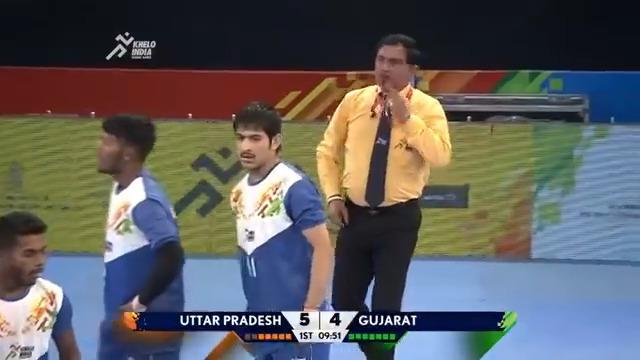Player: (217, 107, 316, 345), (81, 112, 187, 332), (3, 193, 92, 360)
referee: (314, 32, 452, 358)
